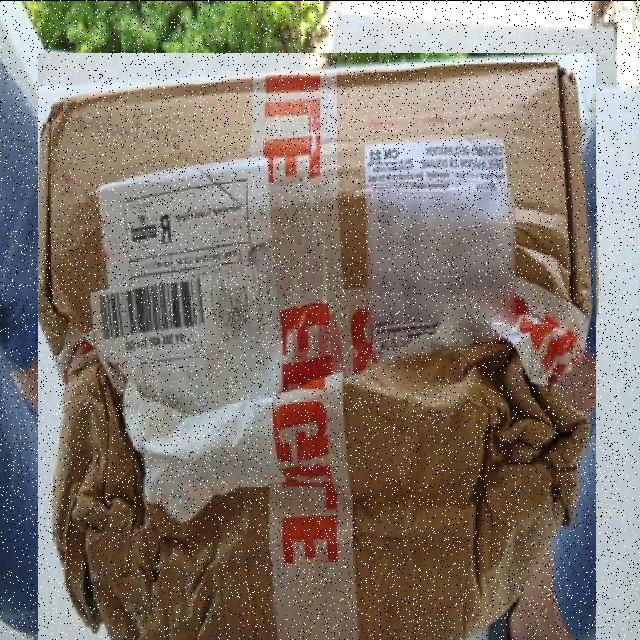defect: (38, 52, 596, 640)
